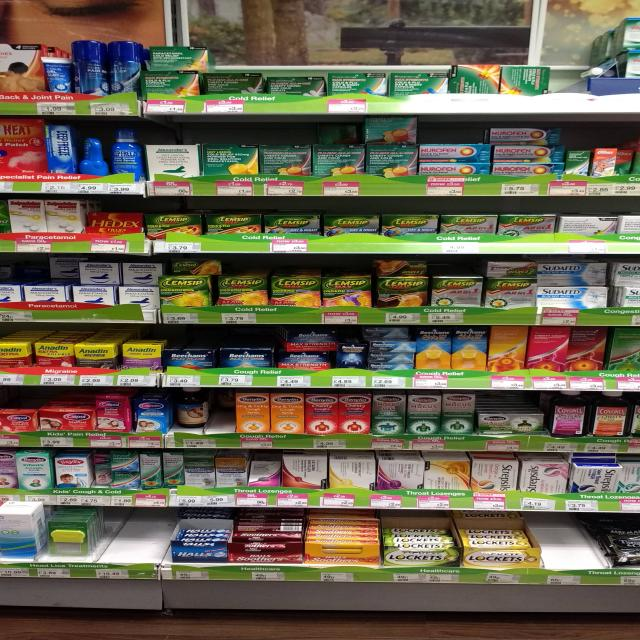void: (542, 513, 599, 586), (134, 509, 174, 582), (98, 511, 130, 582), (590, 62, 632, 113), (554, 63, 589, 112), (210, 388, 235, 446), (621, 142, 640, 195), (619, 215, 640, 251)
